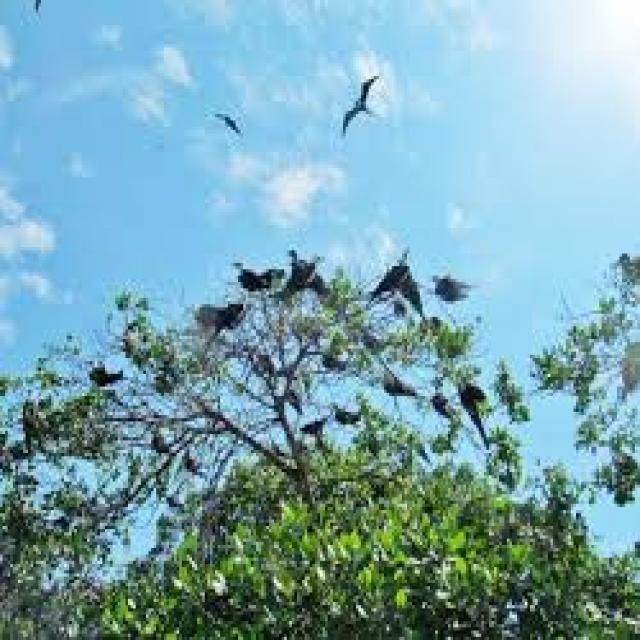bird: (322, 52, 418, 208), (361, 226, 451, 318), (278, 224, 334, 308), (192, 78, 254, 150)
